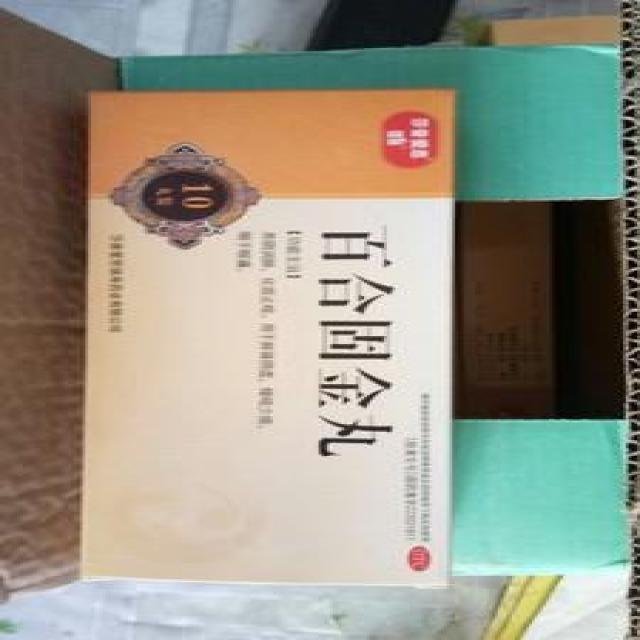-Recyclables - paper box-: (71, 83, 451, 587)
